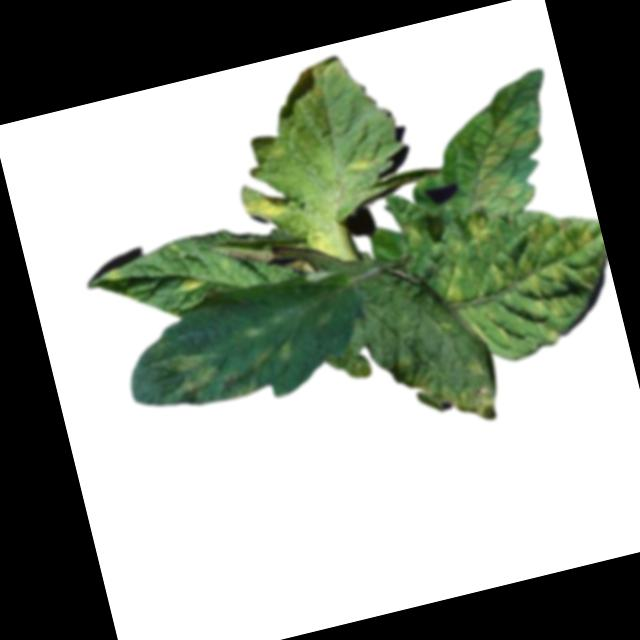Leaf_Mold: (432, 207, 625, 372), (437, 67, 574, 222), (388, 343, 503, 441), (148, 338, 261, 418), (296, 54, 354, 99), (240, 182, 296, 225), (252, 336, 300, 371), (462, 208, 496, 246), (175, 269, 210, 294), (343, 152, 374, 173)
